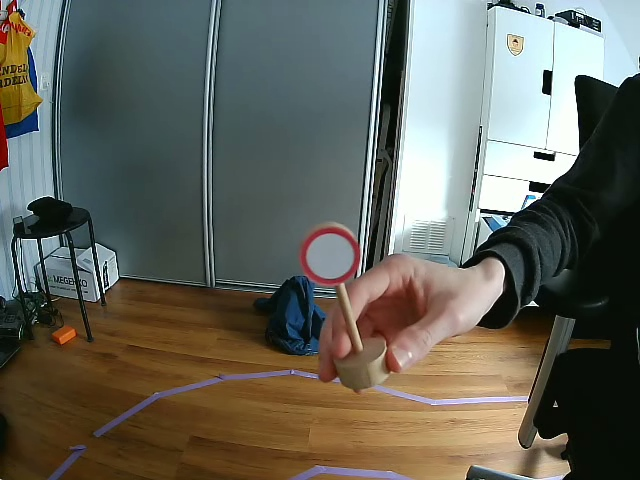wegdicht: (301, 225, 361, 288)
